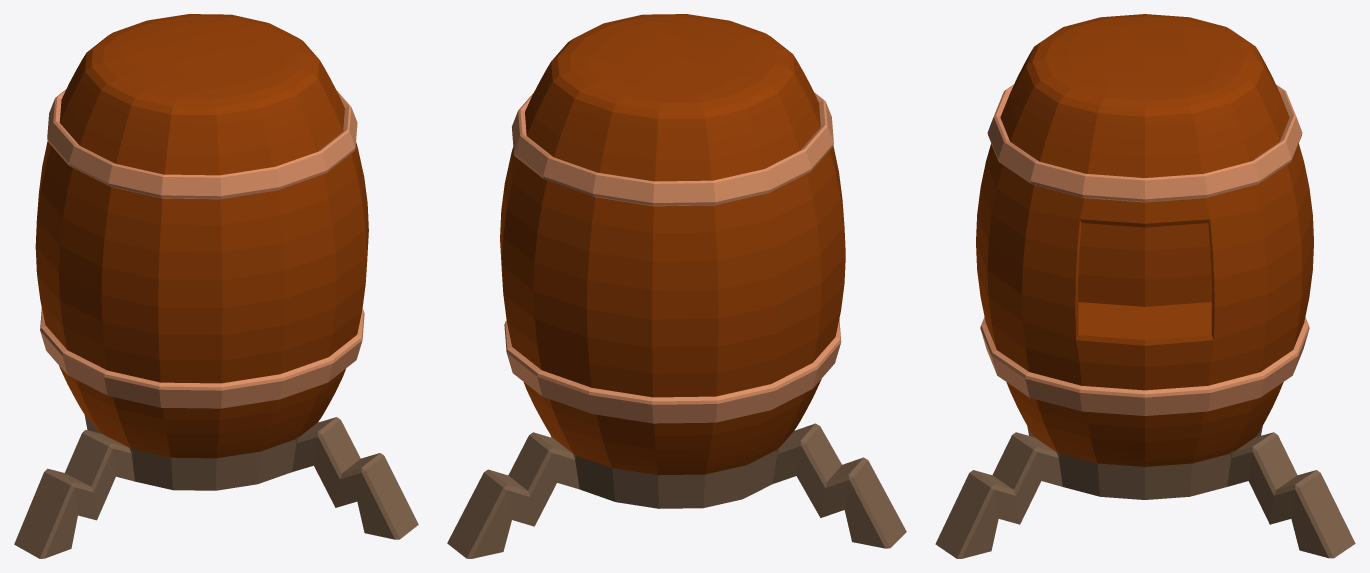
Rendered from Barrel.fbx.
3 views of the same model, side by side, from view 1: azimuth 30°, elevation 25°; view 2: azimuth 150°, elevation 25°; view 3: azimuth 270°, elevation 25° (orthographic). The views are drawn at different scales.
Visible parts, largest first — view 1: Barril; view 2: Barril; view 3: Barril.
Part boxes in pixels (x1=…): Barril: x1=14, y1=14, x2=418, y2=558; Barril: x1=447, y1=14, x2=906, y2=558; Barril: x1=935, y1=14, x2=1355, y2=558.
Bounding box in the file's own units: 502 × 610 × 526.
